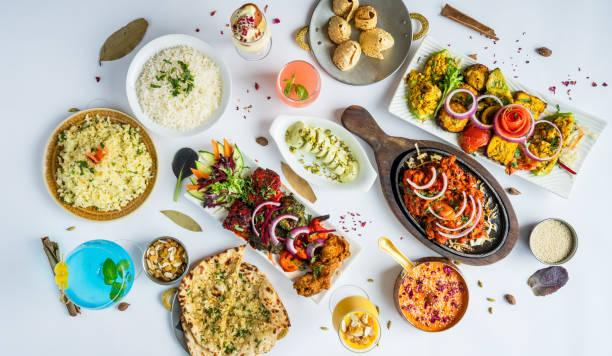Braised Crucian Carp: (388, 33, 605, 200), (188, 145, 354, 288), (371, 129, 520, 267), (42, 108, 156, 222), (125, 33, 229, 139), (307, 0, 415, 86), (172, 279, 286, 354), (269, 114, 374, 193)
